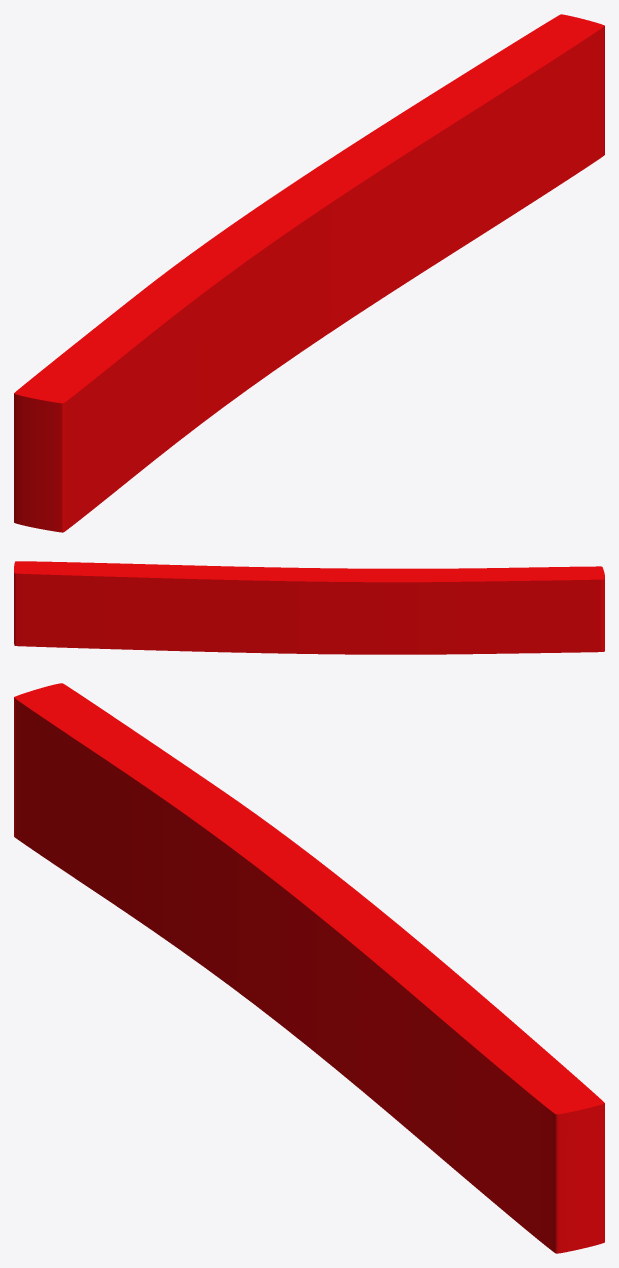
The model's file is Asteroid1MeshB.fbx.
The picture shows the model from 3 angles, top to bottom: view 1: azimuth 30°, elevation 25°; view 2: azimuth 150°, elevation 25°; view 3: azimuth 270°, elevation 25°; orthographic projection. The views are drawn at different scales.
Parts seen in each view (by area): view 1: Curve; view 2: Curve; view 3: Curve.
Boxes of the visible parts, box(x1,y1,x2,y2) form: Curve: box(14, 14, 604, 532); Curve: box(14, 561, 604, 654); Curve: box(14, 683, 604, 1253).
Bounding box in the file's own units: 0.0133 × 0.002 × 0.0077.
